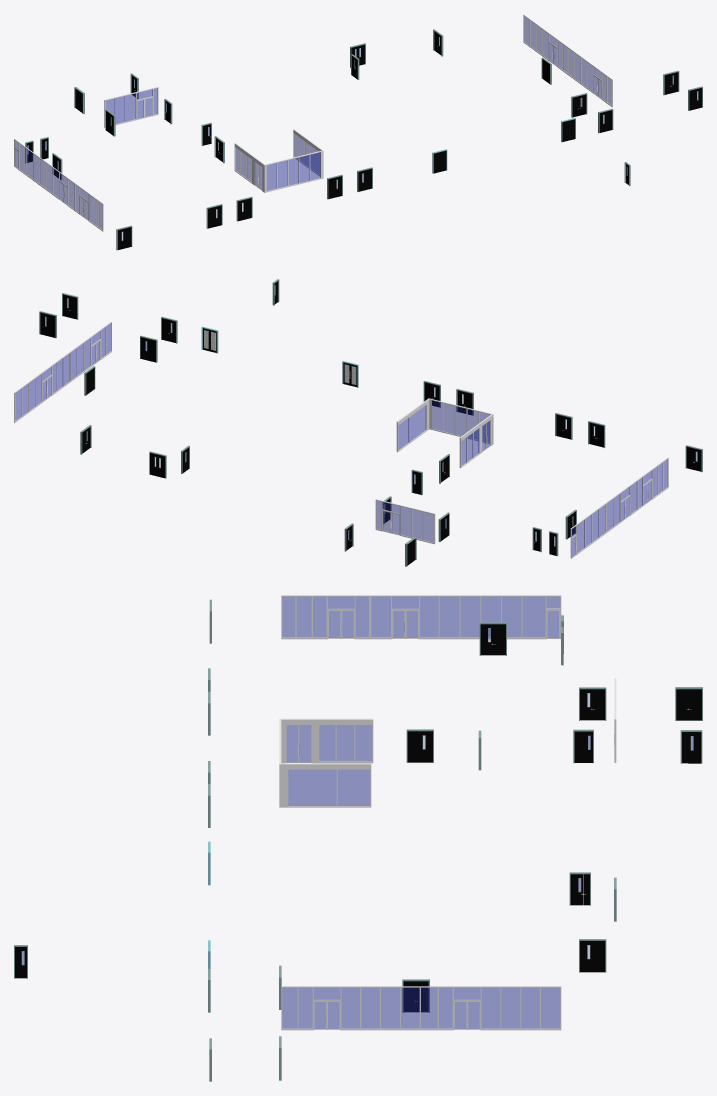
File: B1F_Door.fbx
3 views of the same model, one above another, from view 1: azimuth 30°, elevation 25°; view 2: azimuth 150°, elevation 25°; view 3: azimuth 270°, elevation 25° (orthographic). The views are drawn at different scales.
Parts seen in each view (by area): view 1: Glass_Door_set_C, Glass_Door_set_D, Glass_Door_set_B, Glass_Door_set_A; view 2: Glass_Door_set_C, Glass_Door_set_B, Glass_Door_set_D, Glass_Door_set_A; view 3: Glass_Door_set_D, Glass_Door_set_B, Glass_Door_set_C, Door_set_A_2_L (×5), Door_set_B_2B (×2), Door_set_A_2B_R.
Part boxes in pixels (x1,y1,x2,y2): Glass_Door_set_C: (234, 129, 323, 192); Glass_Door_set_D: (523, 14, 612, 107); Glass_Door_set_B: (14, 139, 103, 231); Glass_Door_set_A: (104, 87, 158, 127); Glass_Door_set_C: (396, 398, 493, 468); Glass_Door_set_B: (570, 457, 668, 558); Glass_Door_set_D: (14, 321, 111, 422); Glass_Door_set_A: (375, 499, 435, 544); Glass_Door_set_D: (281, 986, 561, 1030); Glass_Door_set_B: (281, 595, 561, 639); Glass_Door_set_C: (279, 718, 373, 807); Door_set_A_2_L (×5): (406, 622, 702, 905); Door_set_B_2B (×2): (402, 687, 702, 1012); Door_set_A_2B_R: (579, 939, 606, 972).
Bounding box in the file's own units: 70.83 × 3.2 × 45.87.
